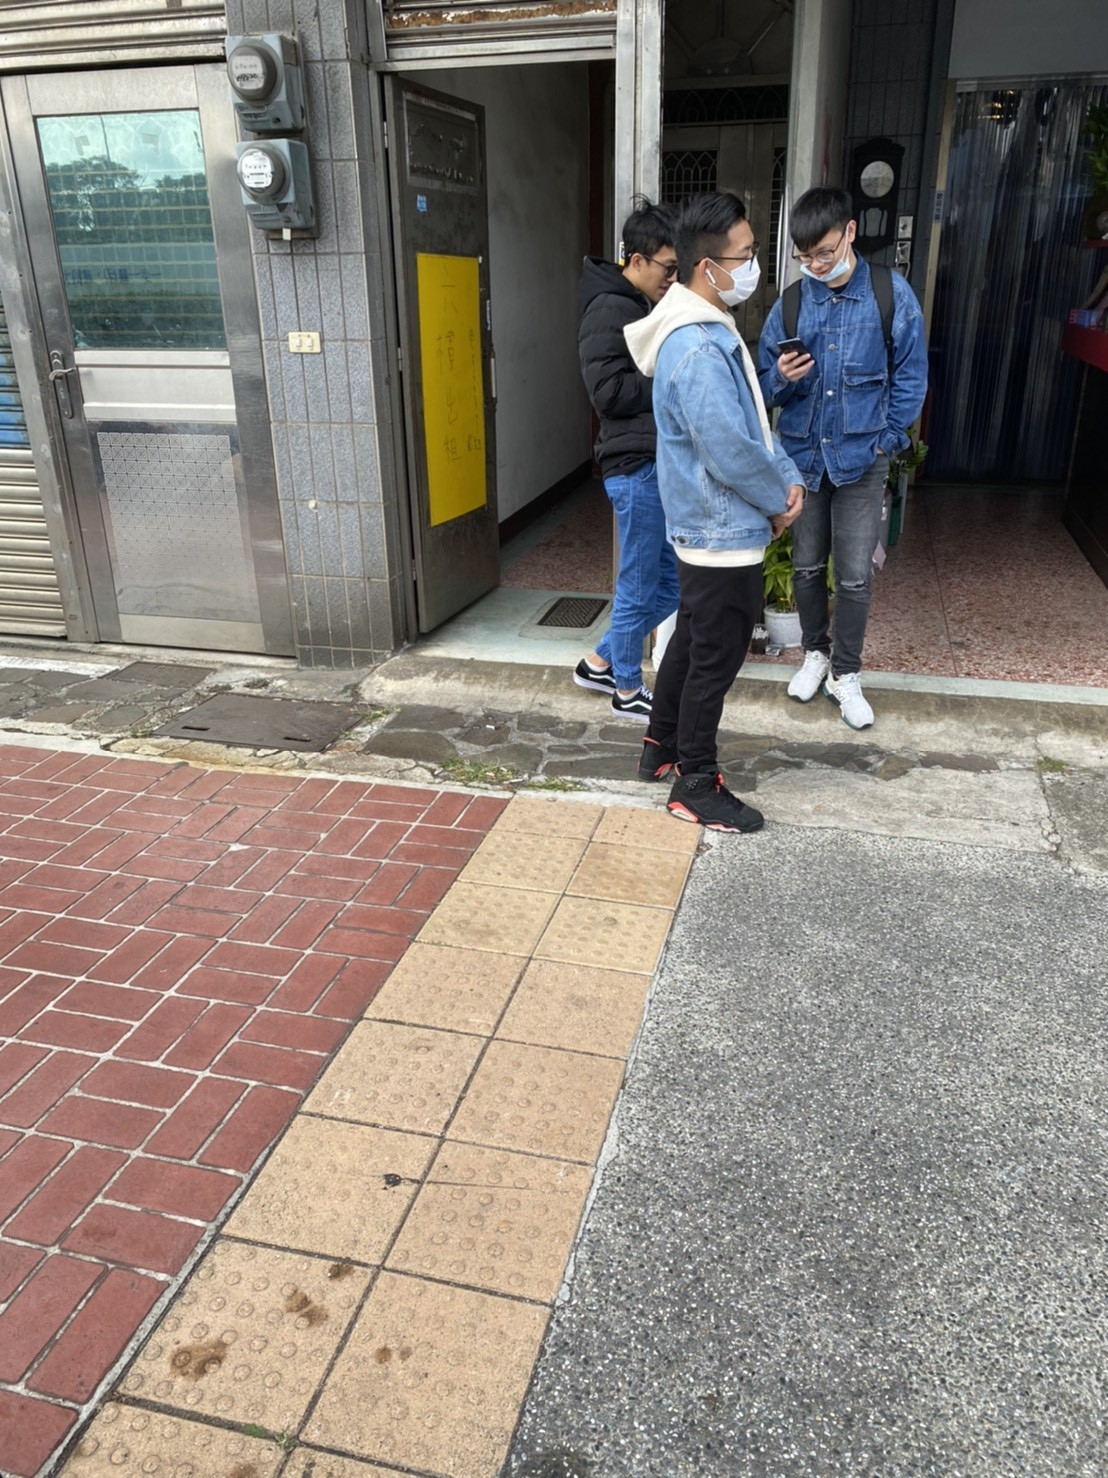people: (759, 176, 893, 735), (655, 195, 764, 850), (576, 202, 674, 719)
